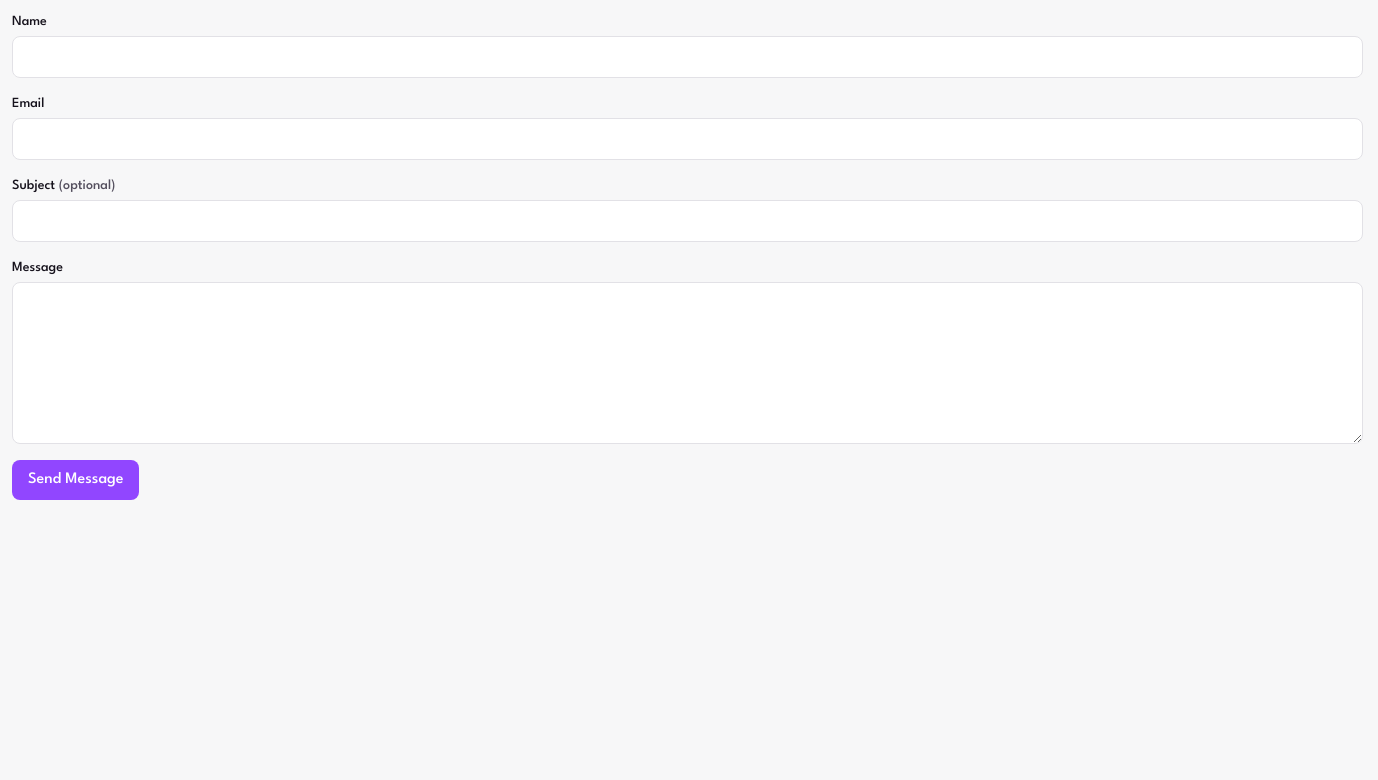
Scenario: ContactForm › preserves the name/email/message field values and shows the field-specific message when the server returns a validation error
This screenshot has width=1378, height=780.
Type "Ash Ketchum" into the field labelled "Name" at (688, 57), box 12,36 -> 1363,78
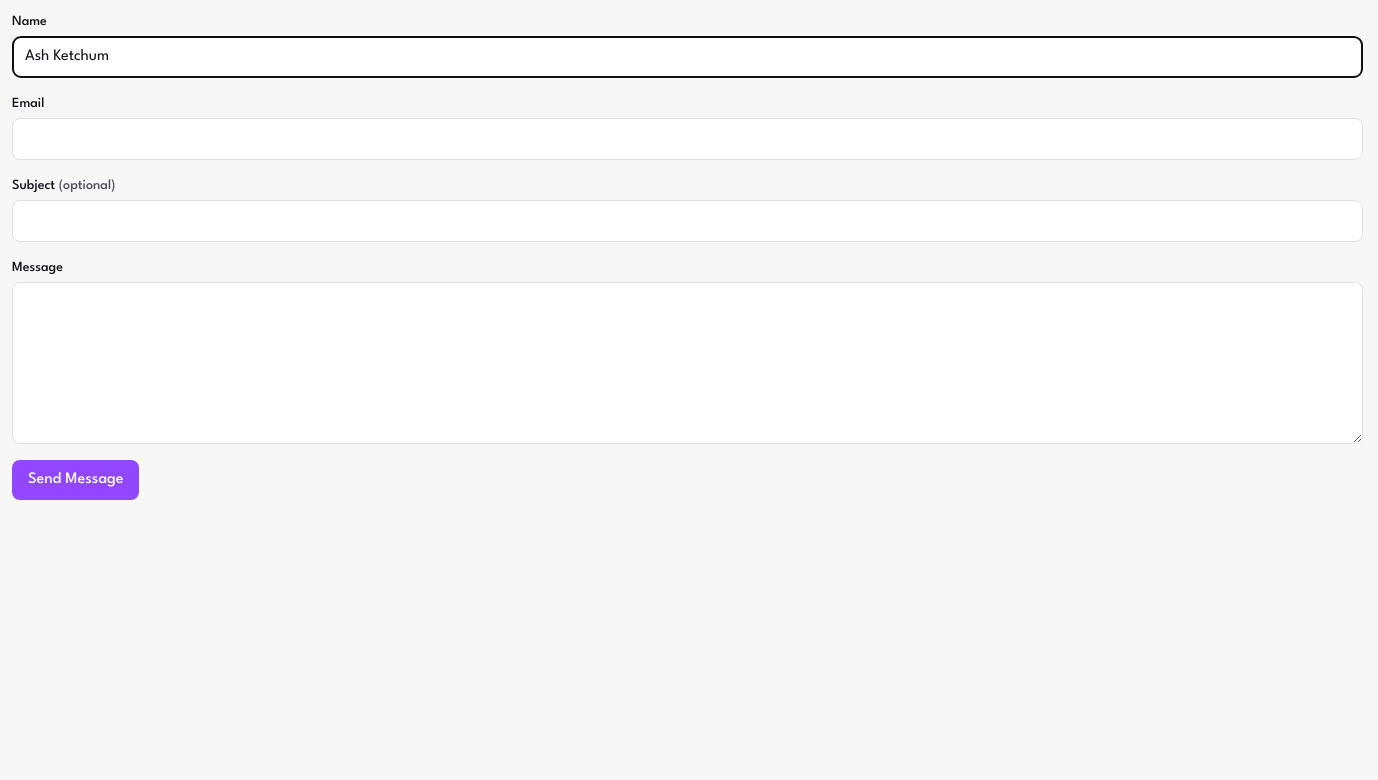
Type "ash@example.com" into the field labelled "Email" at (688, 139), box 12,118 -> 1363,160
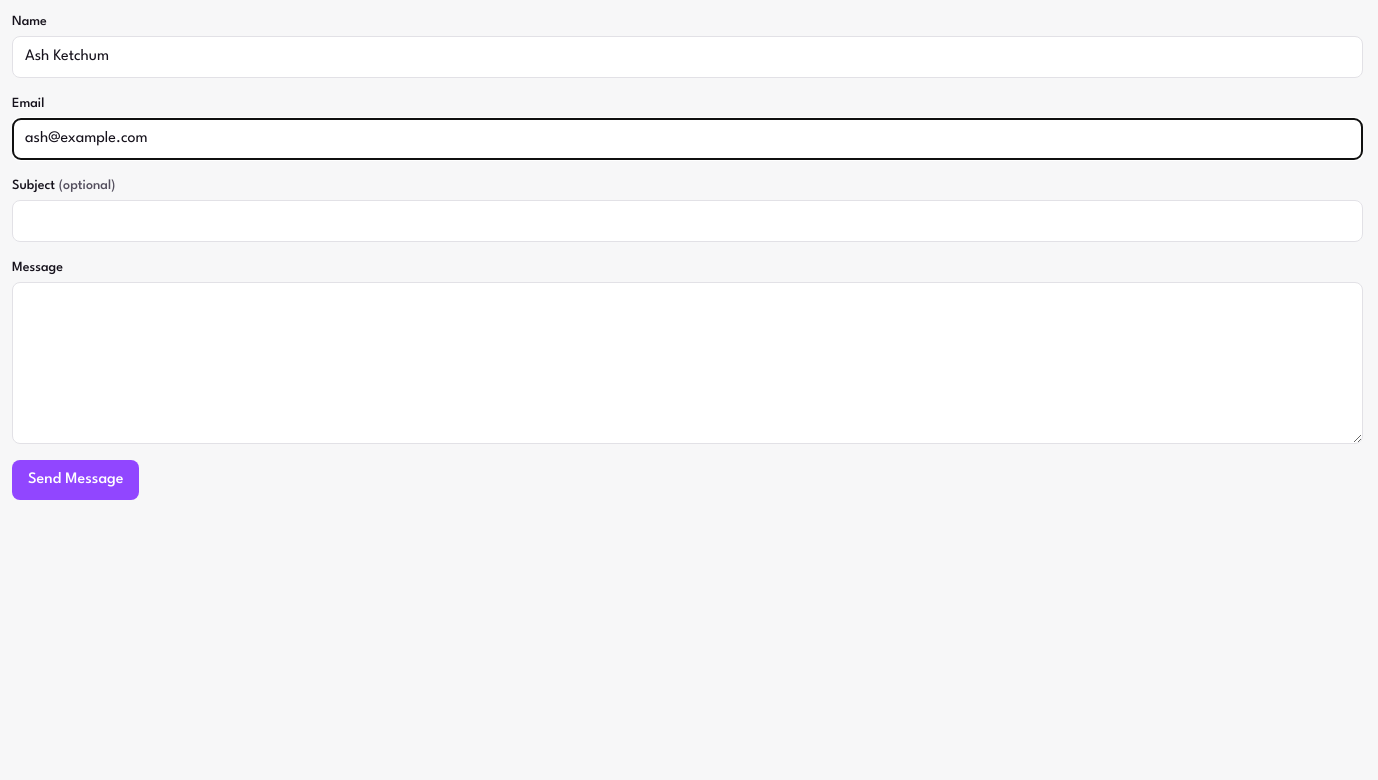
Type "I would like to buy this card, please let me know." into the text box labelled "Message" at (688, 363), box 12,282 -> 1363,444
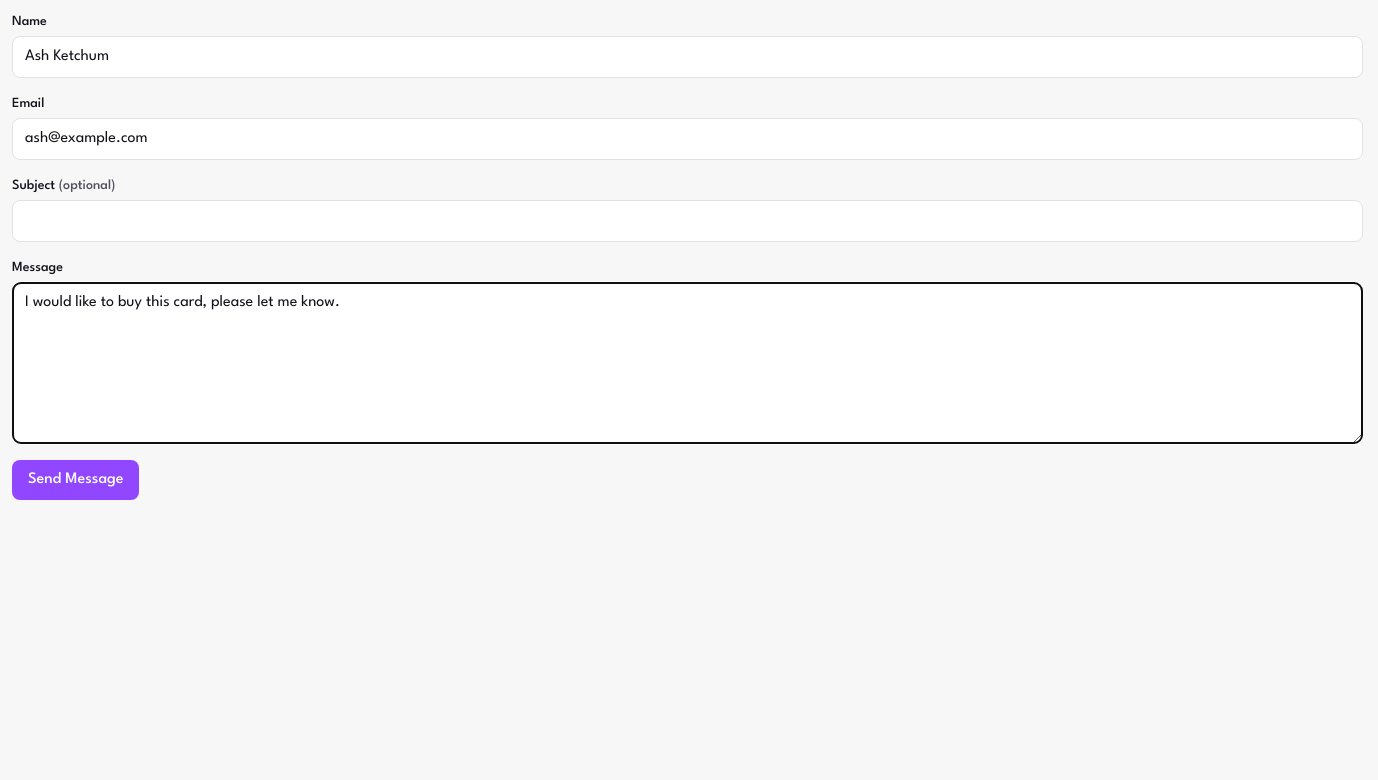
Click the button "Send Message" at (76, 480), box 12,460 -> 140,500
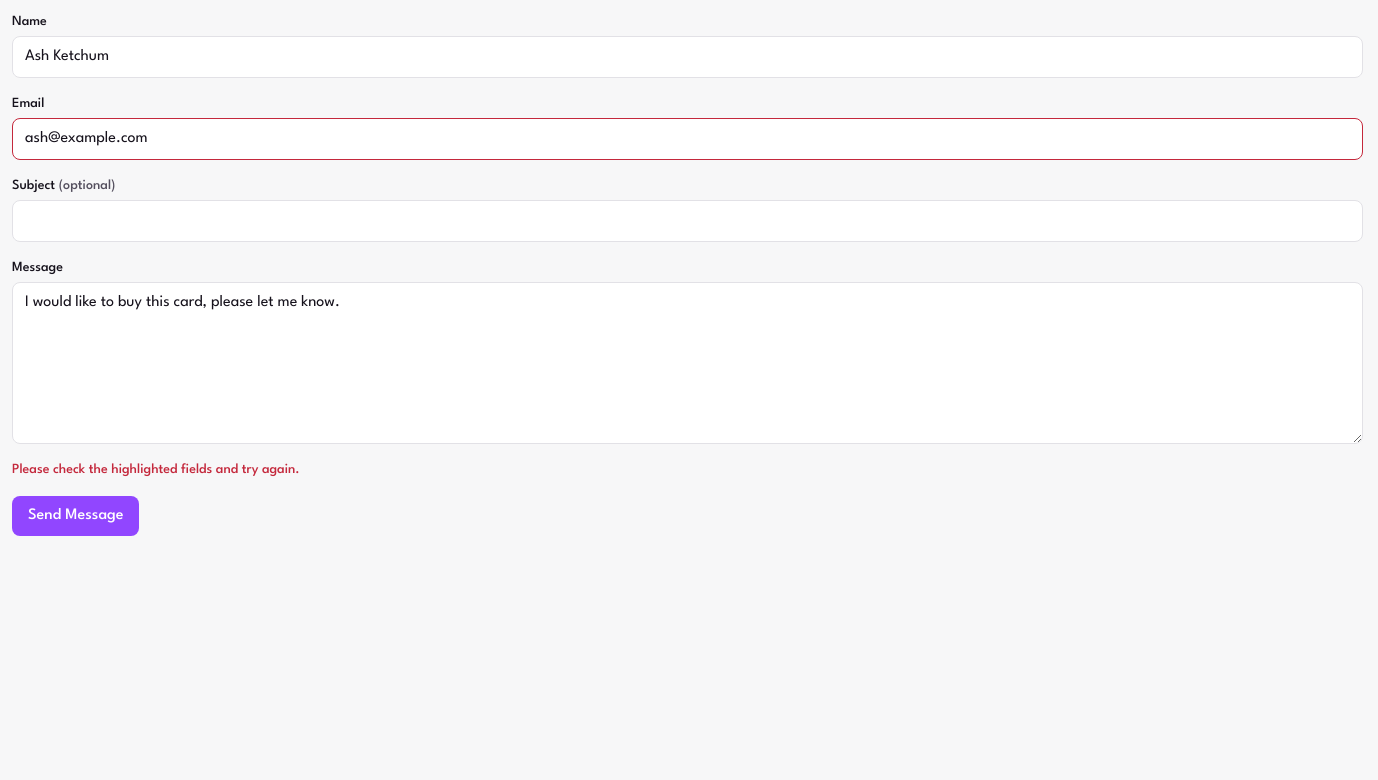
Expected: the message reads "Please check the highlighted fields and try again.", 12,463 -> 300,476
